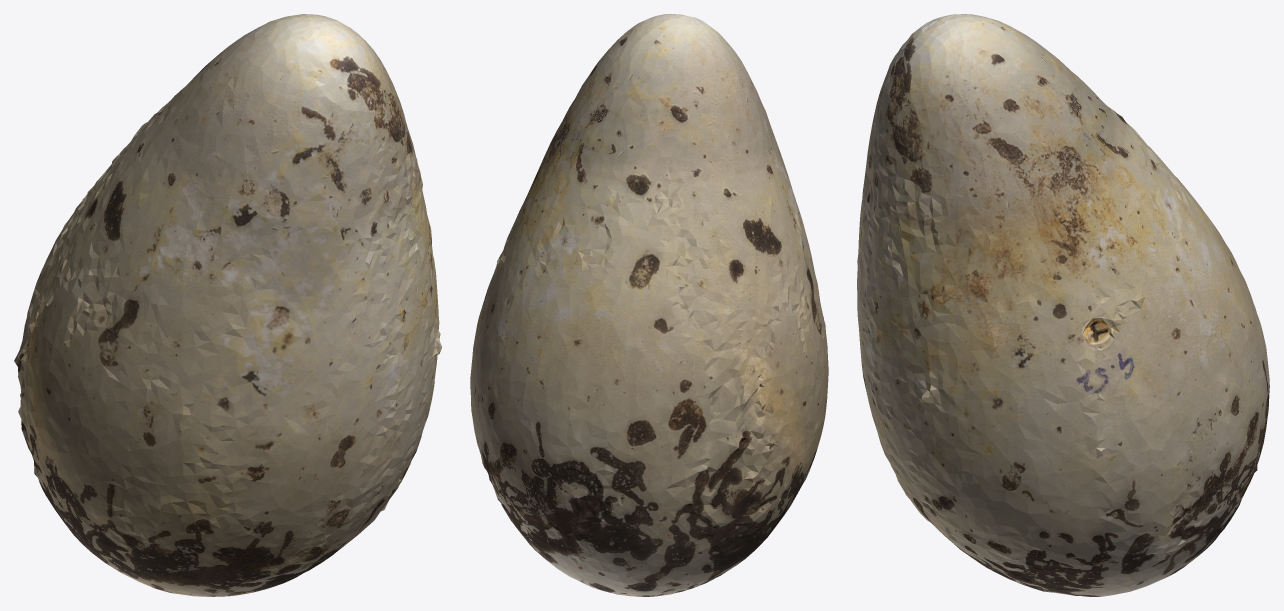
Rendered from egg.dae.
3 views of the same model, side by side, from view 1: azimuth 30°, elevation 25°; view 2: azimuth 150°, elevation 25°; view 3: azimuth 270°, elevation 25° (orthographic). The views are drawn at different scales.
Parts seen in each view (by area): view 1: node; view 2: node; view 3: node.
Part boxes in pixels (left/top/right/bottom): node: left=14, top=14, right=441, bottom=596; node: left=470, top=14, right=828, bottom=596; node: left=857, top=14, right=1269, bottom=596.
Size of the model in its own units: 2.93 by 4.66 by 3.03.
1 material, 1 textured.
